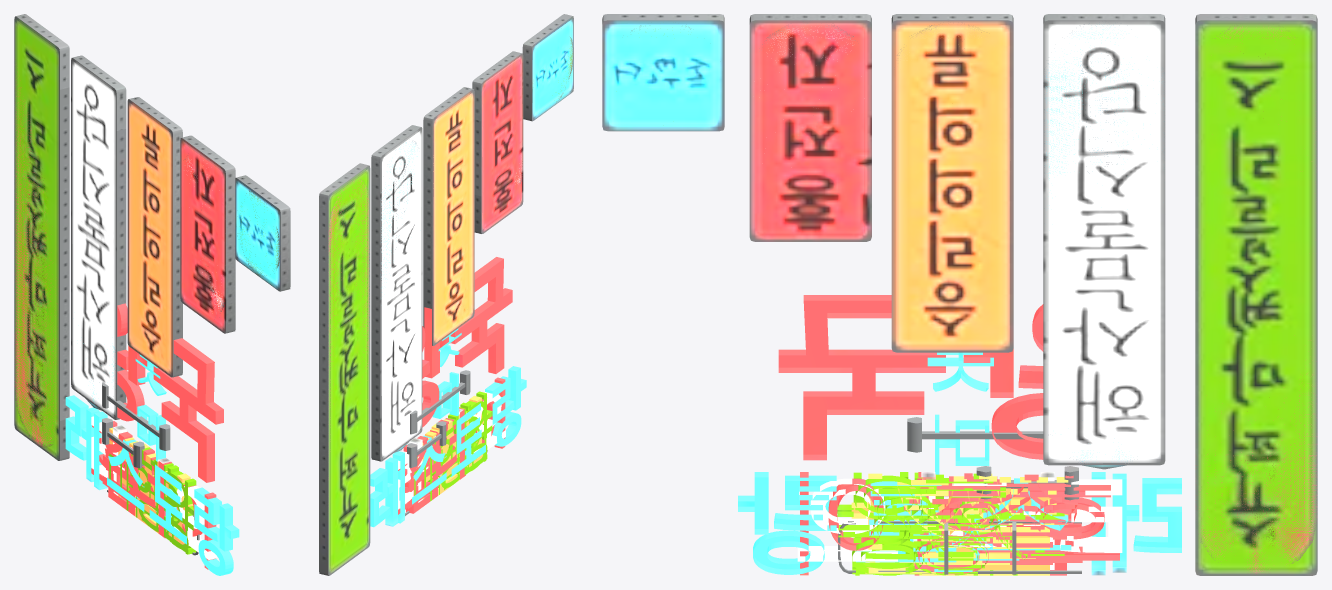
Rendered from signage.glb.
3 renders of one model, left to right at view 1: azimuth 30°, elevation 25°; view 2: azimuth 150°, elevation 25°; view 3: azimuth 270°, elevation 25°, orthographic. The views are drawn at different scales.
Parts seen in each view (by area): view 1: signage_016, signage_014, signage_004, signage_001, signage_015, signage_009, signage_008, signage_010, signage_011, signage_005, signage_002, signage_013 (+2 smaller); view 2: signage_016, signage_004, signage_001, signage_014, signage_015, signage_009, signage_008, signage_010, signage_011, signage_005, signage_002, signage_013 (+2 smaller); view 3: signage_016, signage_004, signage_001, signage_005, signage_009, signage_010, signage_003, signage_015, signage_014, signage_008, signage_002, signage_007 (+3 smaller).
Part boxes in pixels (x1,y1,x2,y2): signage_016: (14, 14, 290, 460); signage_014: (14, 87, 280, 447); signage_004: (91, 303, 223, 559); signage_001: (65, 395, 239, 575); signage_015: (102, 382, 199, 555); signage_009: (103, 431, 196, 554); signage_008: (135, 354, 166, 511); signage_010: (102, 438, 196, 548); signage_011: (132, 447, 171, 537); signage_005: (91, 421, 216, 569); signage_002: (109, 453, 187, 554); signage_013: (131, 447, 173, 532); signage_016: (319, 14, 573, 575); signage_004: (398, 257, 512, 509); signage_001: (370, 366, 526, 527); signage_014: (328, 37, 573, 479); signage_015: (405, 370, 487, 515); signage_009: (405, 401, 492, 513); signage_008: (432, 328, 461, 475); signage_010: (407, 391, 492, 508); signage_011: (436, 408, 464, 479); signage_005: (398, 377, 505, 514); signage_002: (414, 416, 486, 501); signage_013: (434, 407, 465, 488); signage_016: (602, 14, 1317, 575); signage_004: (778, 295, 1122, 569); signage_001: (738, 472, 1181, 575); signage_005: (800, 472, 1119, 575); signage_009: (838, 474, 1081, 575); signage_010: (837, 472, 1082, 575); signage_003: (851, 473, 1068, 575); signage_015: (838, 417, 1081, 574); signage_014: (631, 21, 1317, 574); signage_008: (927, 352, 993, 571); signage_002: (855, 504, 1064, 575); signage_007: (905, 474, 1013, 575).
Size of the model in its own units: 0.0701 by 1.56 by 1.82.
Materials: 1 (1 with a texture image).
